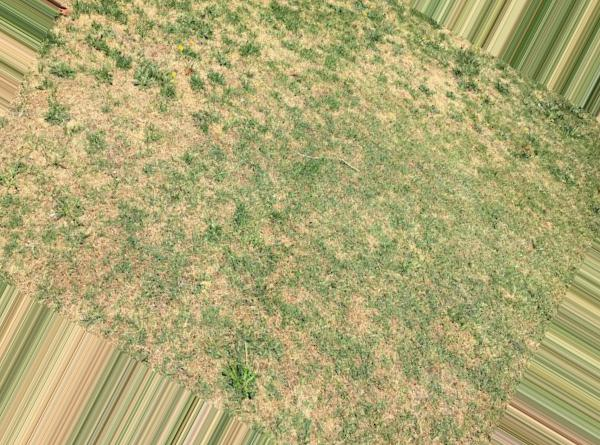patch: (231, 305, 427, 426), (14, 188, 210, 308), (67, 80, 201, 204), (311, 55, 478, 139), (194, 37, 304, 105)
